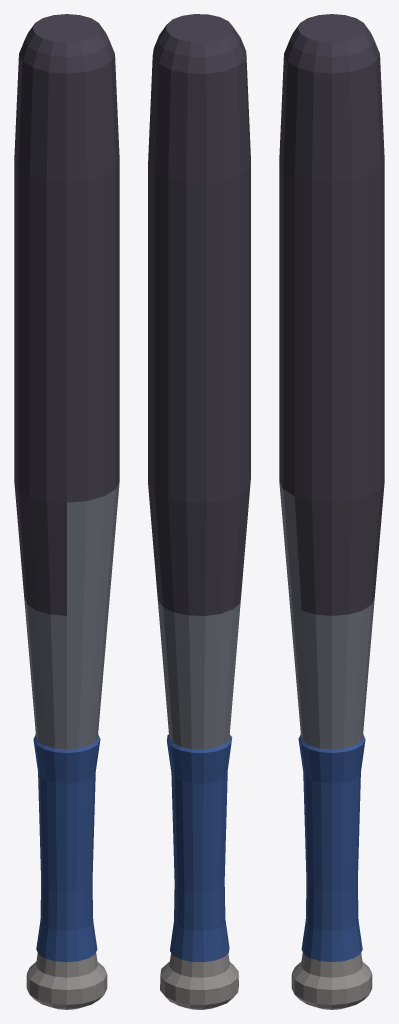
File: metal_bat.glb
The picture shows the model from 3 angles, left to right: view 1: azimuth 90°, elevation 25°; view 2: azimuth 210°, elevation 25°; view 3: azimuth 270°, elevation 25°; orthographic projection.
Visible parts, largest first — view 1: BatHandle.006; view 2: BatHandle.006; view 3: BatHandle.006.
Boxes of the visible parts, <box> form: BatHandle.006: <box>14,14,119,1009</box>; BatHandle.006: <box>148,14,250,1009</box>; BatHandle.006: <box>279,14,384,1009</box>.
Size of the model in its own units: 0.0963 by 1 by 0.0982.
